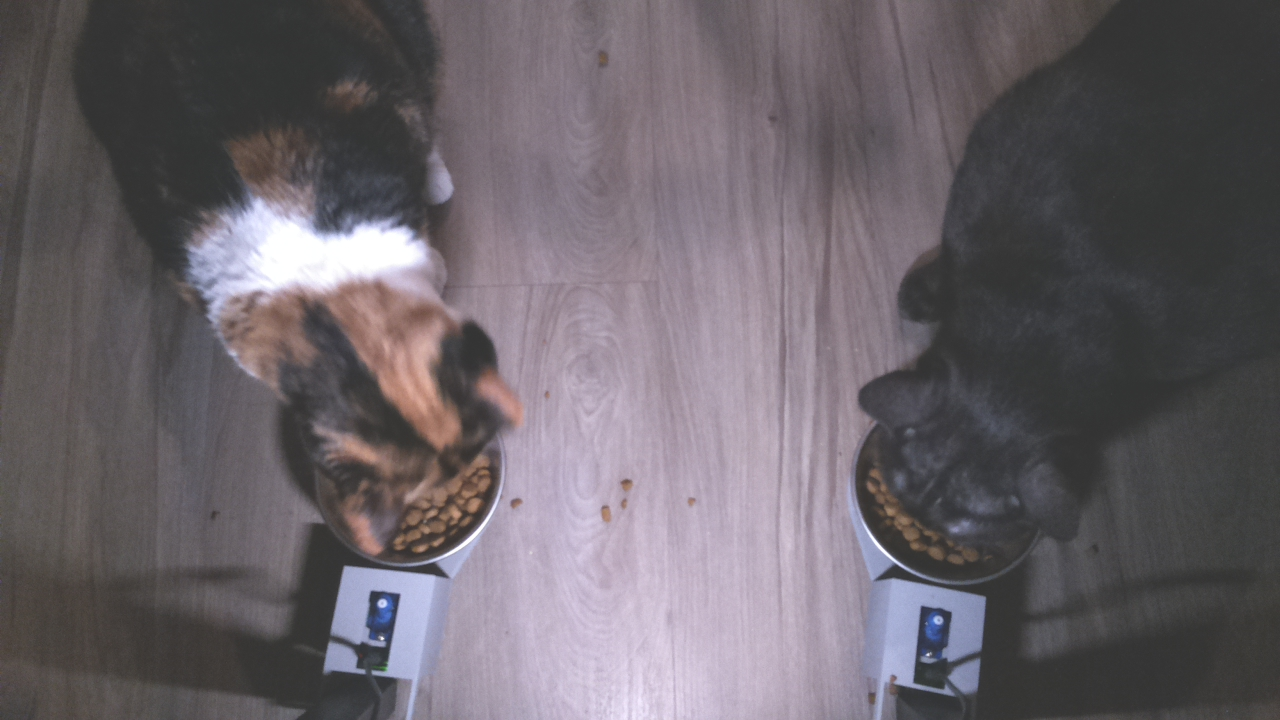bella_eating: (227, 221, 522, 570)
saki_eating: (851, 318, 1112, 596)
